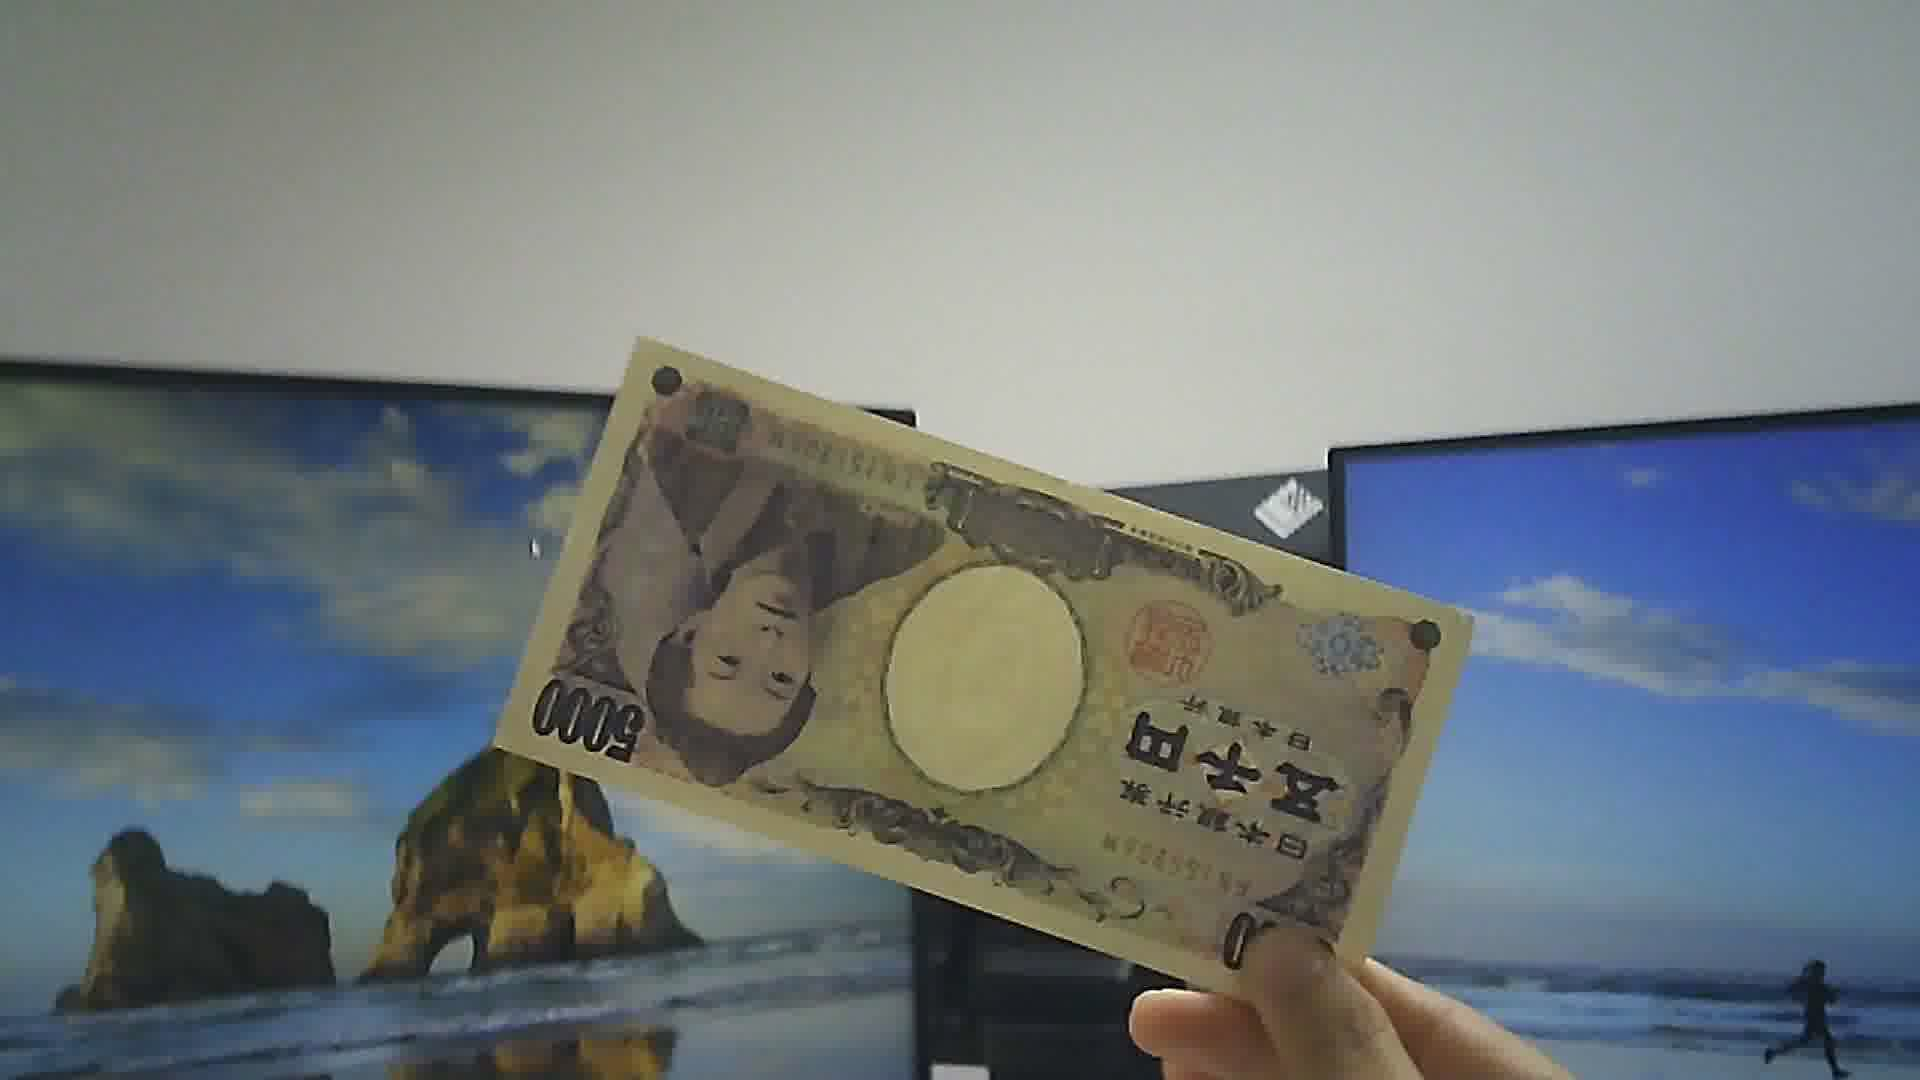5,000 Yen: (488, 330, 1460, 1004)
